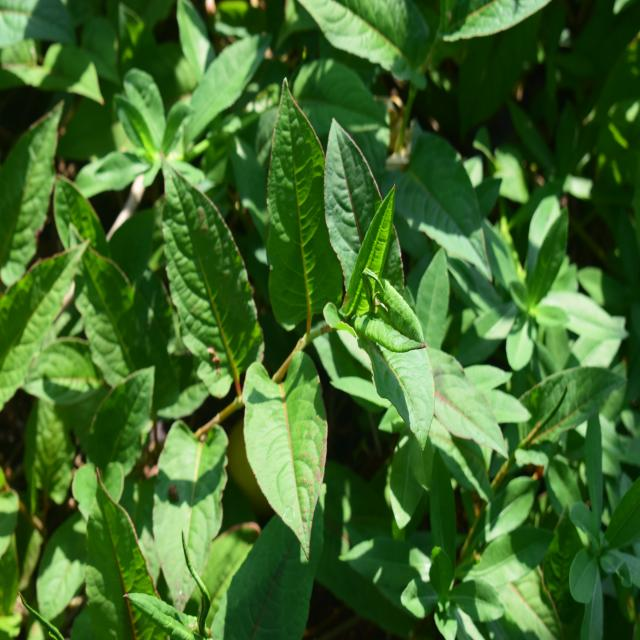Chinese_knotweed: (146, 84, 438, 522)
